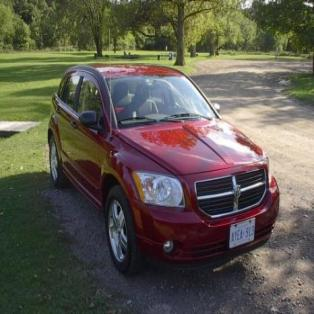Auto: (47, 62, 281, 279)
